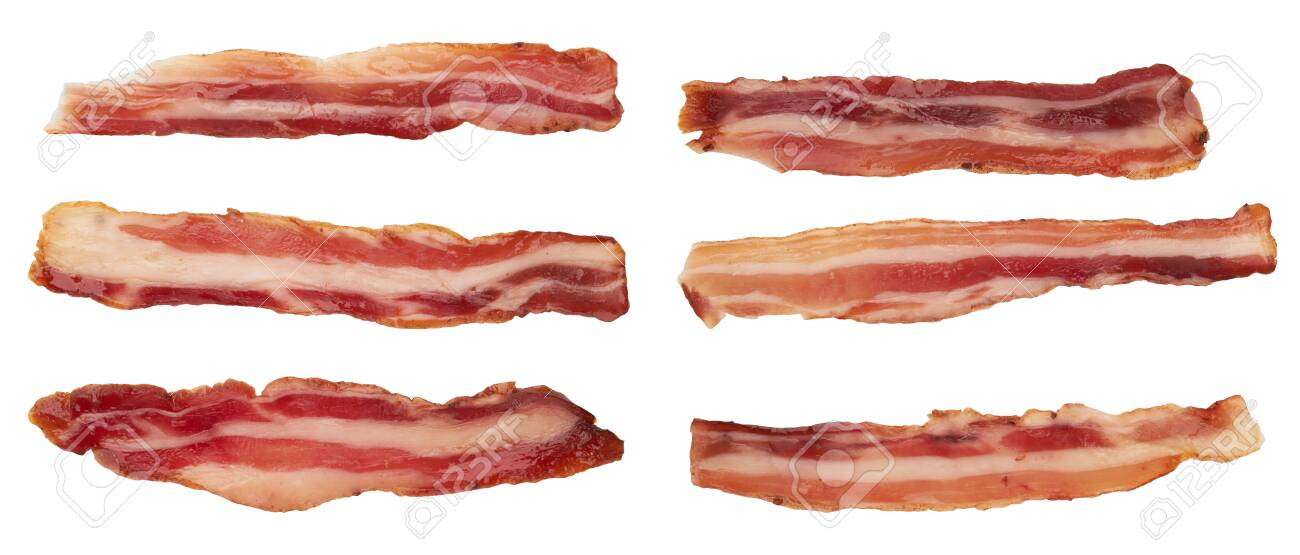bacon: (25, 202, 711, 354), (50, 360, 614, 542), (665, 379, 1270, 540), (2, 28, 650, 163), (677, 45, 1201, 187), (674, 221, 1298, 327)
